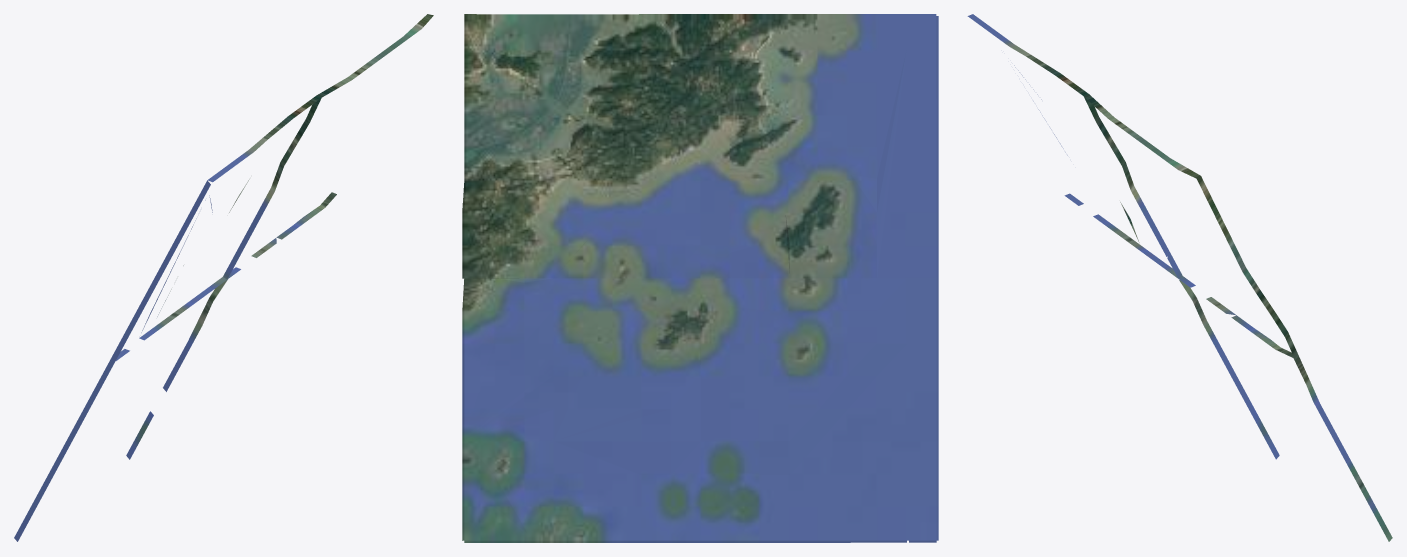
3 renders of one model, left to right at view 1: azimuth 30°, elevation 25°; view 2: azimuth 150°, elevation 25°; view 3: azimuth 270°, elevation 25°, orthographic. The views are drawn at different scales.
Bounding box in the file's own units: 39414 × 35562 × 33278.
1 material, 1 textured.
